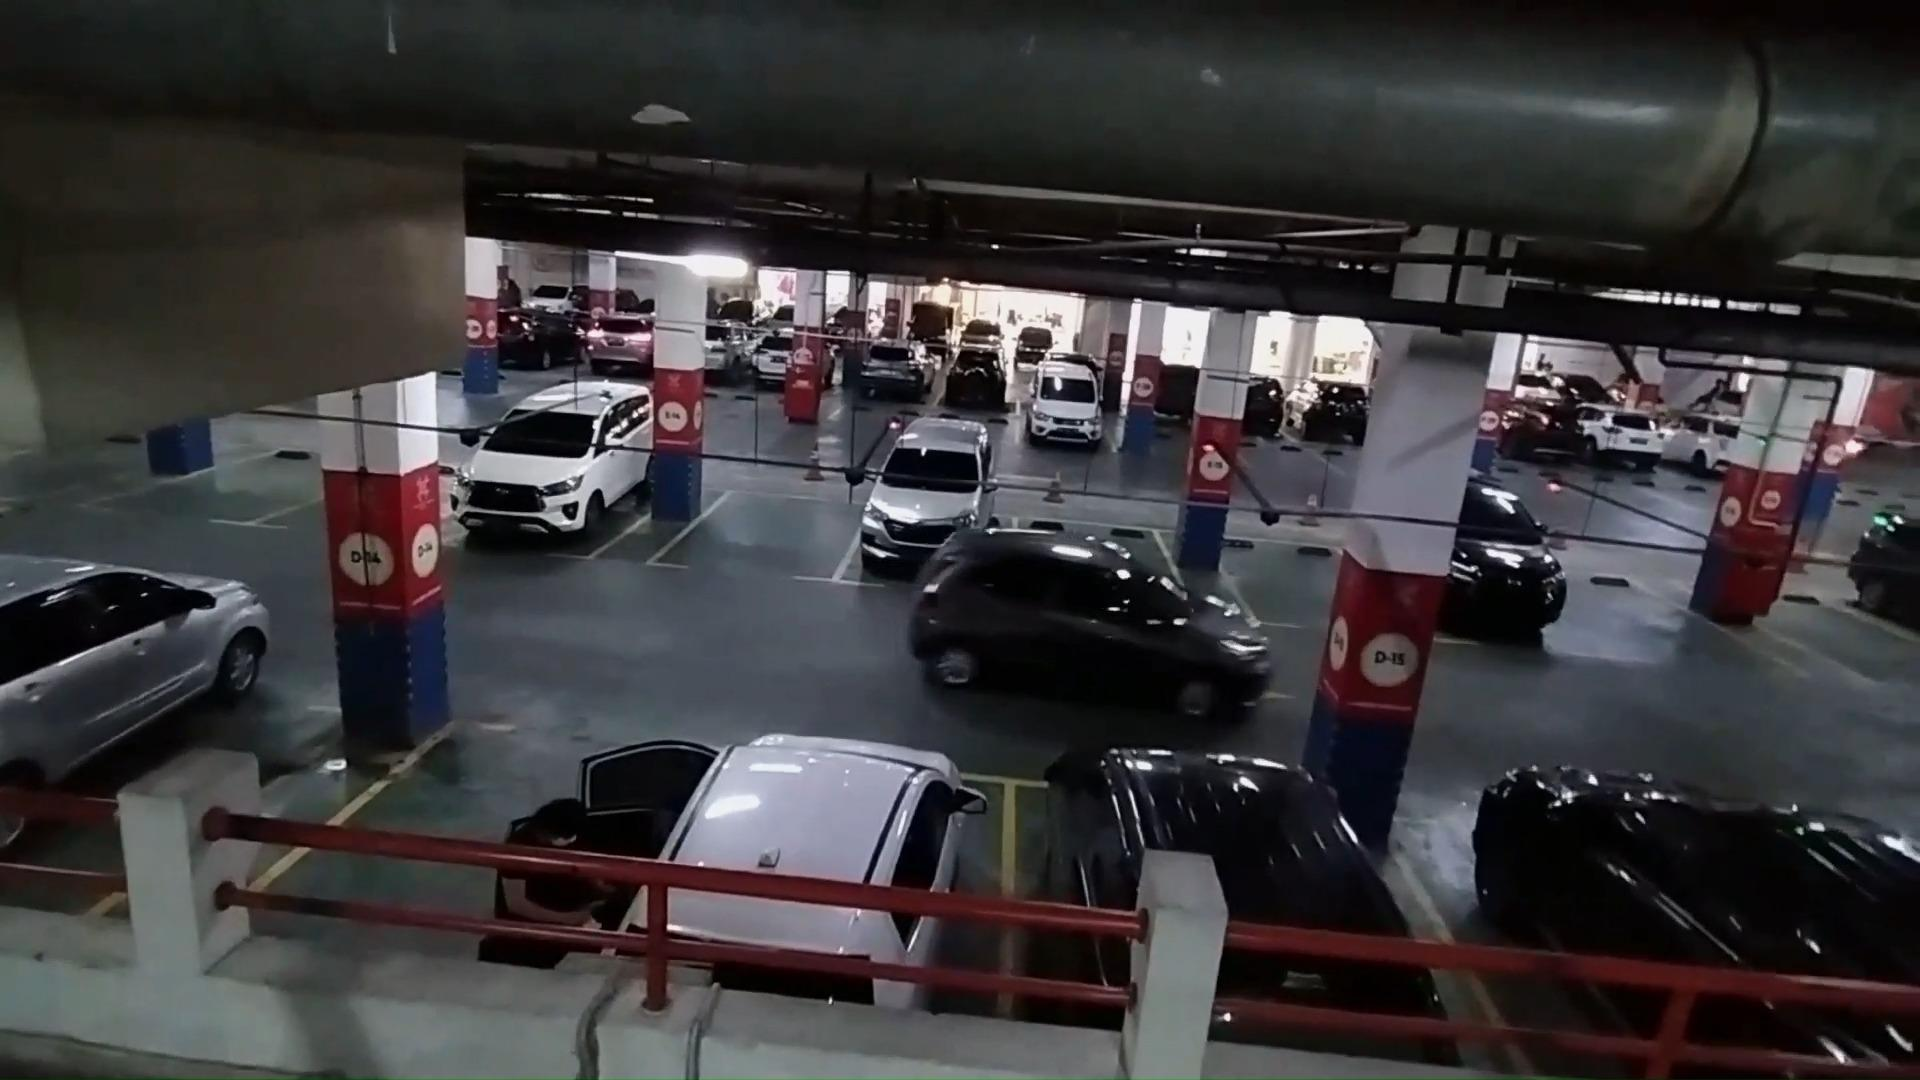occupied: (581, 750, 1015, 1019), (411, 466, 683, 560)
vacant: (201, 725, 726, 984), (1485, 565, 1806, 676), (1205, 532, 1432, 639), (1670, 585, 1919, 682), (81, 447, 385, 525), (649, 491, 876, 580)
